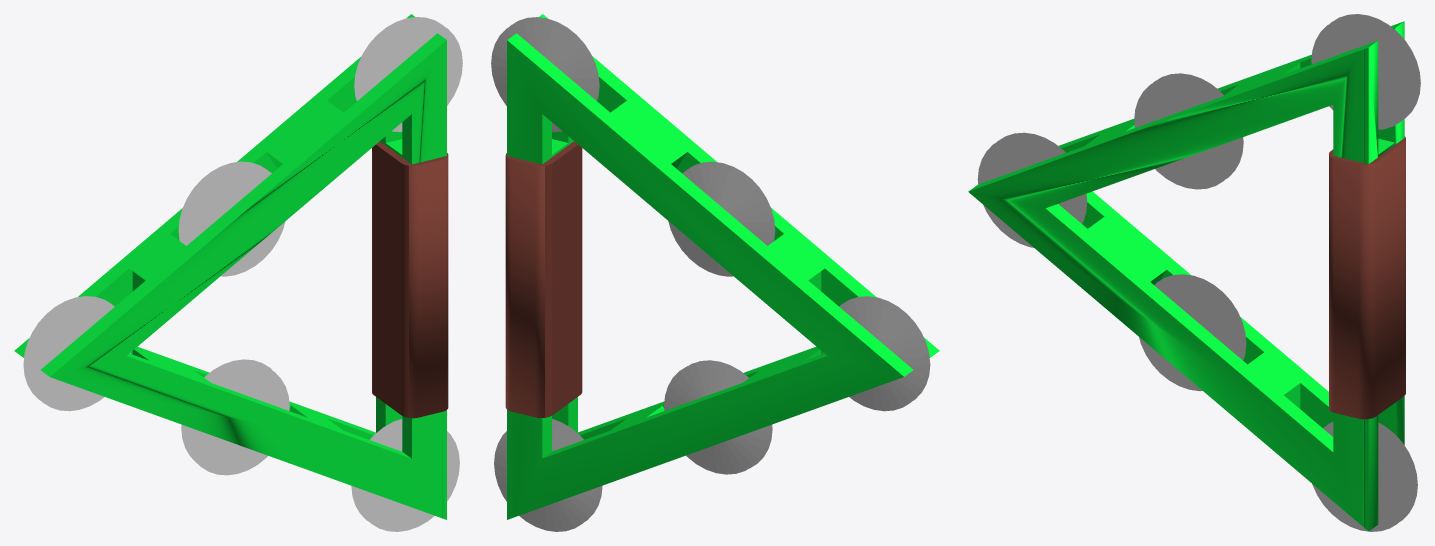
Rendered from tambarin_sankaku.fbx.
The picture shows the model from 3 angles, left to right: view 1: azimuth 30°, elevation 25°; view 2: azimuth 150°, elevation 25°; view 3: azimuth 330°, elevation 25°; orthographic projection.
Parts seen in each view (by area): view 1: 立方体, 立方体.011, 円錐.001, 円錐.007, 円錐.003, 円錐.015, 円錐.009, 円錐, 円錐.014, 円錐.002; view 2: 立方体, 立方体.011, 円錐, 円錐.006, 円錐.002, 円錐.014, 円錐.008, 円錐.001, 円錐.015, 円錐.003; view 3: 立方体, 立方体.011, 円錐.015, 円錐.003, 円錐.007, 円錐.009, 円錐.001, 円錐.006, 円錐.014, 円錐.008.
Part boxes in pixels (x1,y1,x2,y2): 立方体: [14, 14, 446, 519]; 立方体.011: [372, 141, 448, 418]; 円錐.001: [28, 299, 130, 411]; 円錐.007: [185, 363, 289, 475]; 円錐.003: [183, 164, 285, 276]; 円錐.015: [358, 20, 462, 131]; 円錐.009: [355, 423, 459, 531]; 円錐: [23, 296, 112, 400]; 円錐.014: [354, 17, 443, 100]; 円錐.002: [178, 161, 267, 243]; 立方体: [507, 14, 939, 519]; 立方体.011: [505, 141, 582, 417]; 円錐: [822, 299, 925, 411]; 円錐.006: [664, 362, 768, 474]; 円錐.002: [668, 165, 770, 276]; 円錐.014: [491, 20, 595, 132]; 円錐.008: [494, 423, 598, 531]; 円錐.001: [840, 296, 930, 400]; 円錐.015: [510, 17, 599, 100]; 円錐.003: [686, 161, 775, 243]; 立方体: [968, 21, 1404, 531]; 立方体.011: [1329, 136, 1405, 419]; 円錐.015: [1311, 17, 1416, 129]; 円錐.003: [1134, 76, 1239, 189]; 円錐.007: [1139, 278, 1241, 391]; 円錐.009: [1312, 422, 1413, 531]; 円錐.001: [977, 136, 1082, 247]; 円錐.006: [1154, 274, 1246, 360]; 円錐.014: [1330, 14, 1420, 119]; 円錐.008: [1327, 421, 1417, 521].
Bounding box in the file's own units: 7.5 × 8.38 × 1.23.
